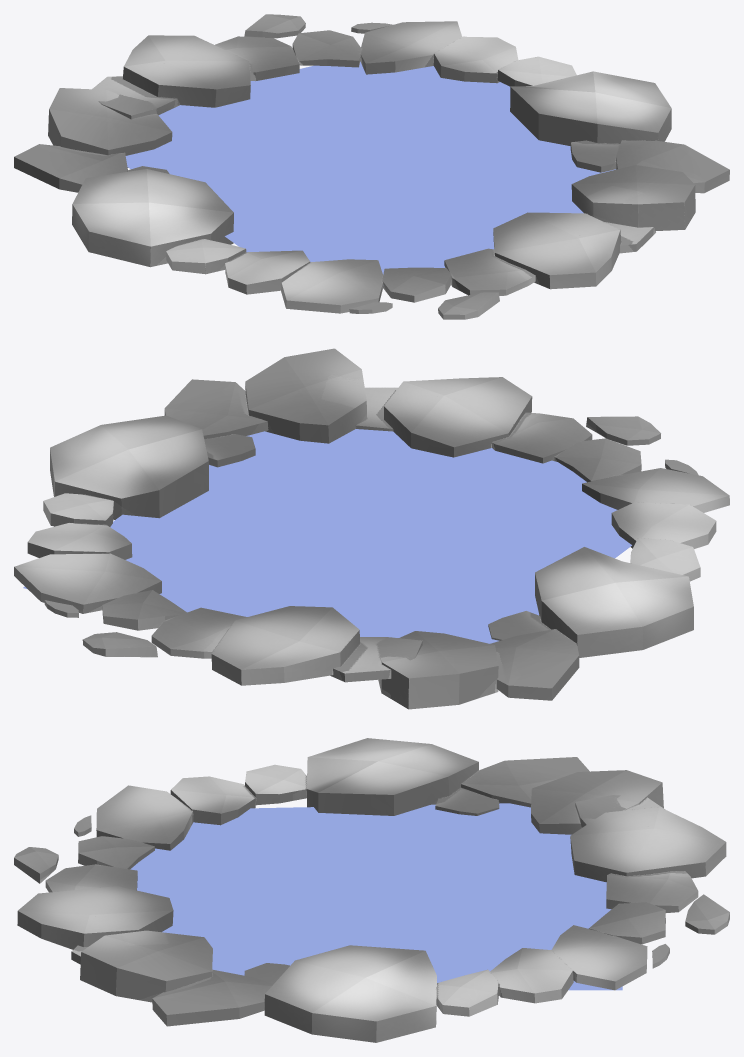
File: Modelado_EstanqueRana_001.glb
3 renders of one model, top to bottom at view 1: azimuth 30°, elevation 25°; view 2: azimuth 150°, elevation 25°; view 3: azimuth 270°, elevation 25°, orthographic. The views are drawn at different scales.
Parts seen in each view (by area): view 1: Rocas.001, Plane.005; view 2: Rocas.001, Plane.005; view 3: Rocas.001, Plane.005.
Part boxes in pixels (bbox=[...]): Rocas.001: bbox=[14, 14, 729, 319]; Plane.005: bbox=[125, 61, 615, 274]; Rocas.001: bbox=[14, 348, 729, 709]; Plane.005: bbox=[23, 429, 631, 643]; Rocas.001: bbox=[14, 738, 729, 1042]; Plane.005: bbox=[130, 803, 622, 990].
Bounding box in the file's own units: 21.93 × 1.61 × 22.89.
Materials: 2 (2 with a texture image).
